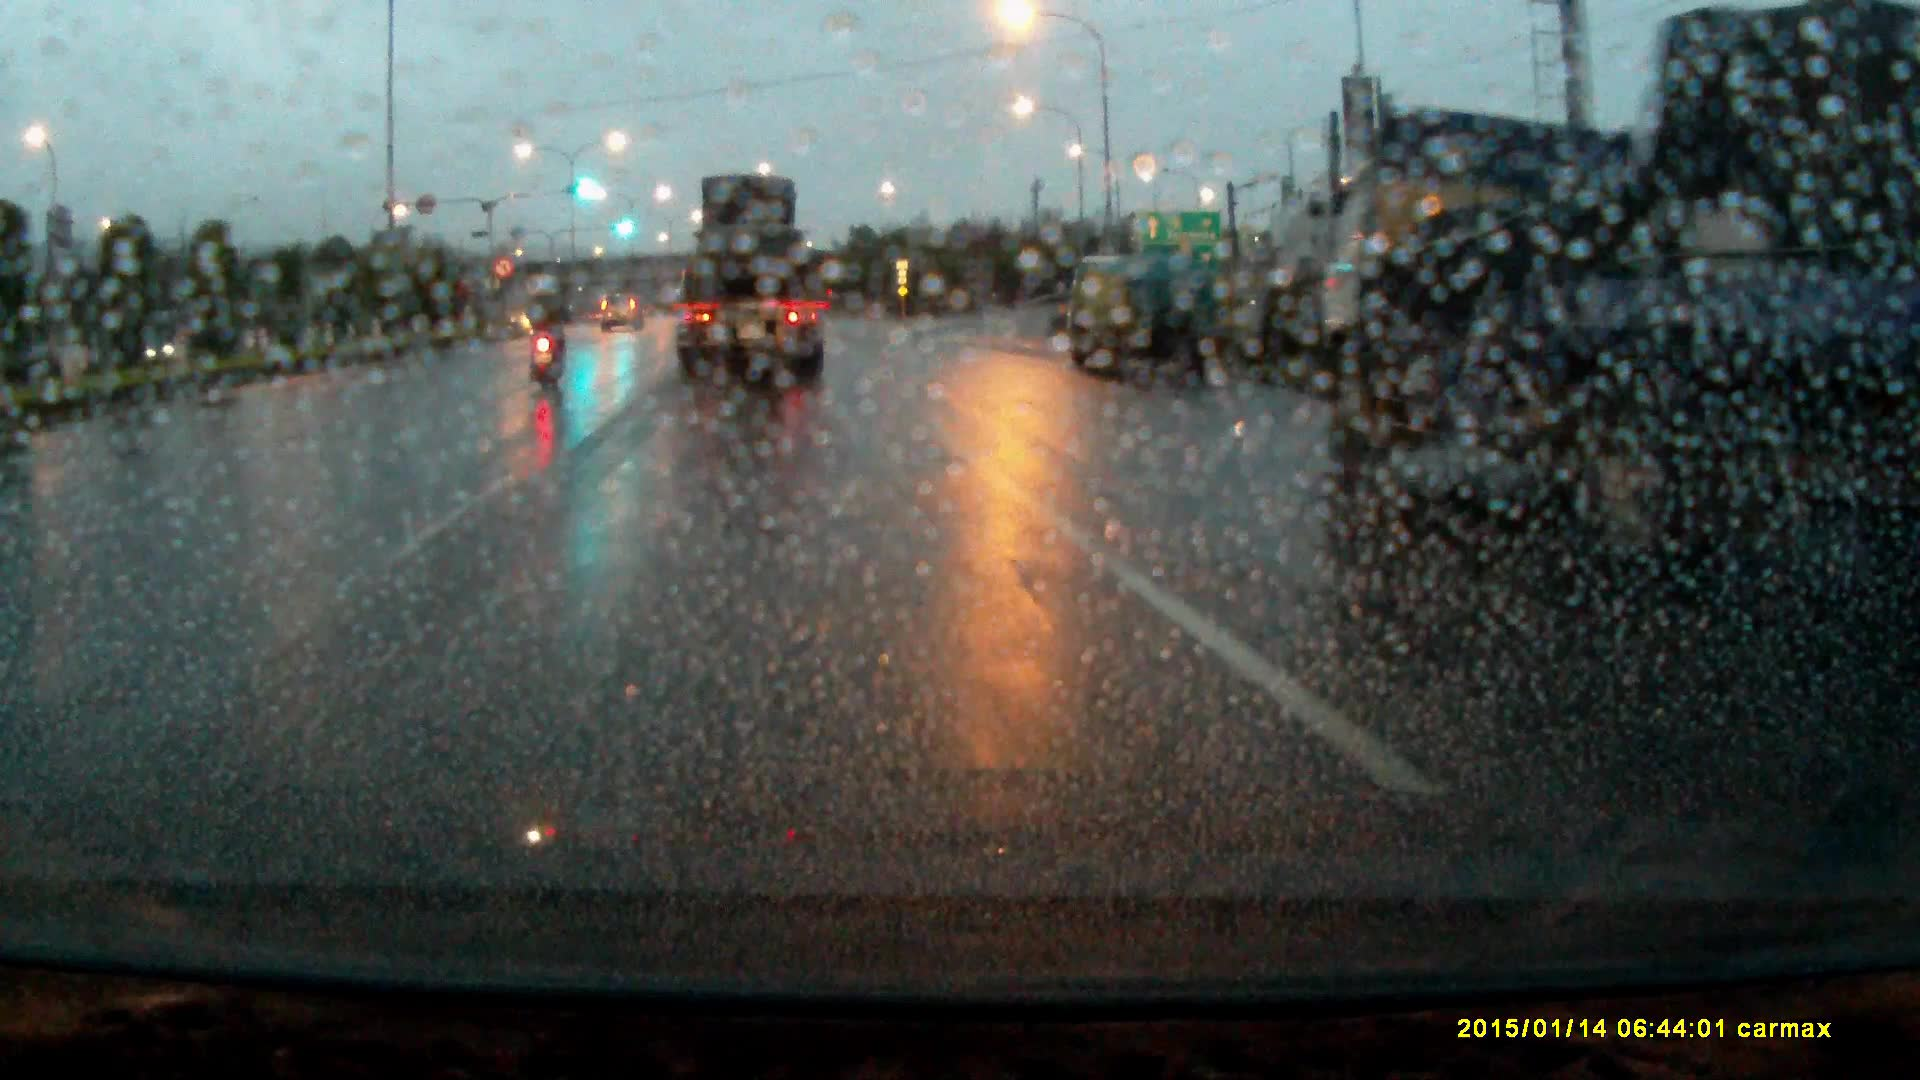rider: (525, 272, 577, 388)
vehicle: (1303, 104, 1920, 574), (669, 171, 829, 391), (1064, 256, 1228, 378), (601, 294, 646, 336)
